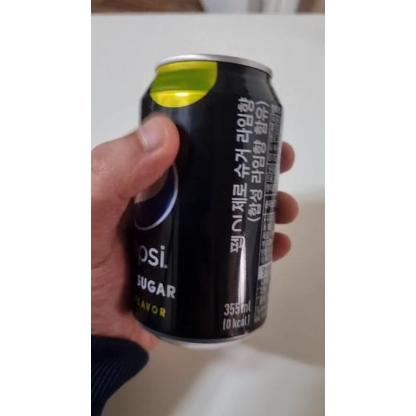Can: (131, 53, 285, 345)
